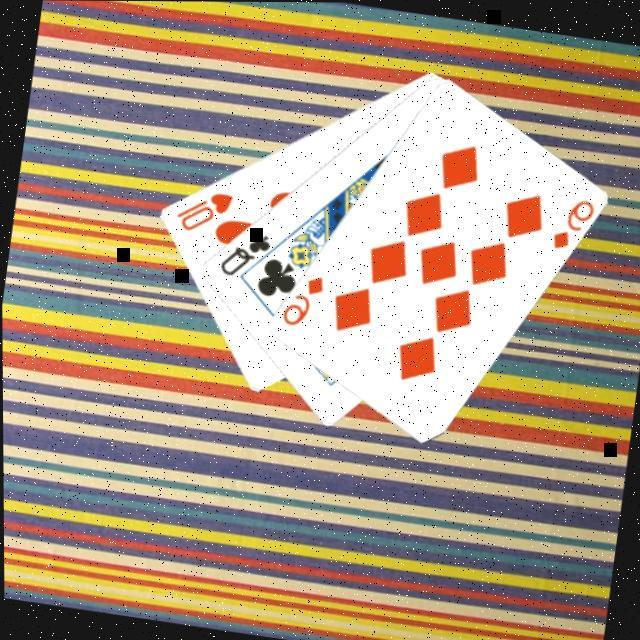10H: (169, 181, 235, 239)
9D: (274, 267, 326, 332), (544, 190, 596, 255)
QC: (212, 222, 273, 283)
